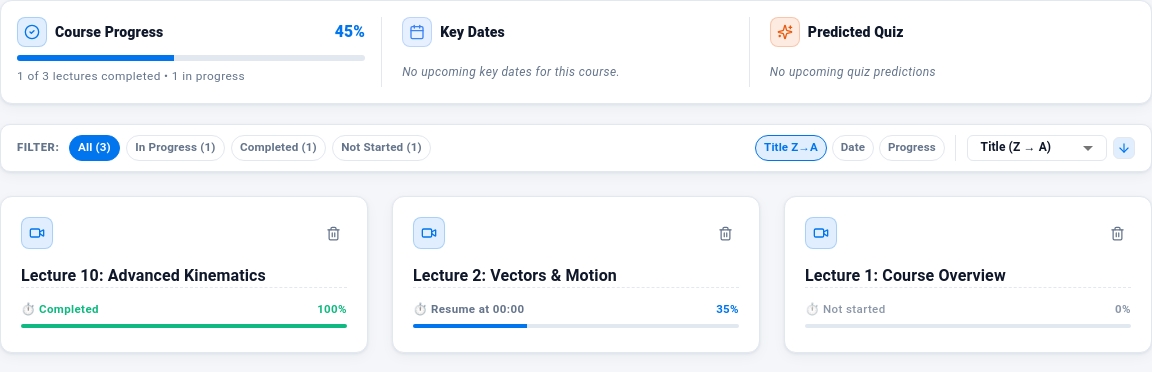
Scenario: CourseLectures › sorts lectures by title by default and allows sorting and filtering
The width and height of the screenshot is (1152, 372).
Check: the text "Filter:" is shown, box [17,139,59,157]
Check: the headings read "Lecture 10: Advanced Kinematics", "Lecture 2: Vectors & Motion", "Lecture 1: Course Overview", in this order, box [21,266,266,285]; [413,266,617,285]; [805,266,1006,285]
Note: Click quick sort chip "Title" to toggle direction to A-Z
Click the button with aria-label "Sort by Title": (791, 148) [755,135,827,161]
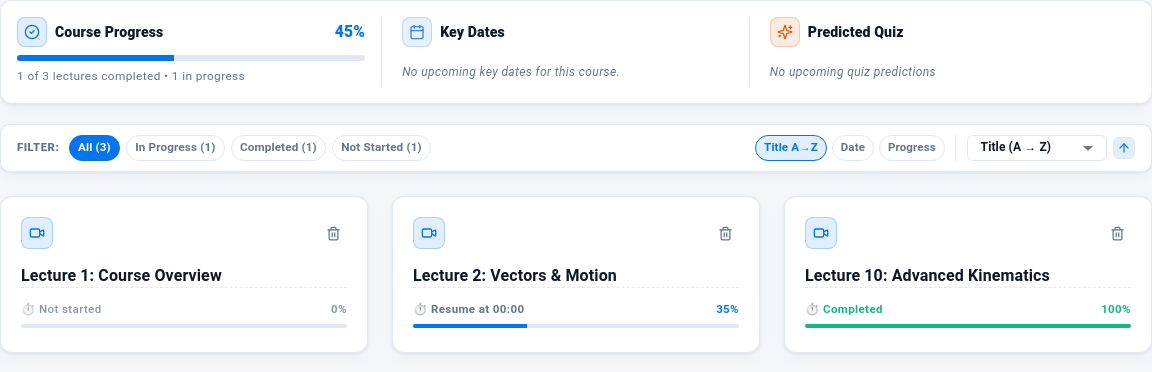
Check: the headings read "Lecture 1: Course Overview", "Lecture 2: Vectors & Motion", "Lecture 10: Advanced Kinematics", in this order, box [21,266,222,285]; [413,266,617,285]; [805,266,1050,285]
Note: Click quick sort chip "Progress"
Click the button with aria-label "Sort by Progress": (912, 148) [879,135,945,161]
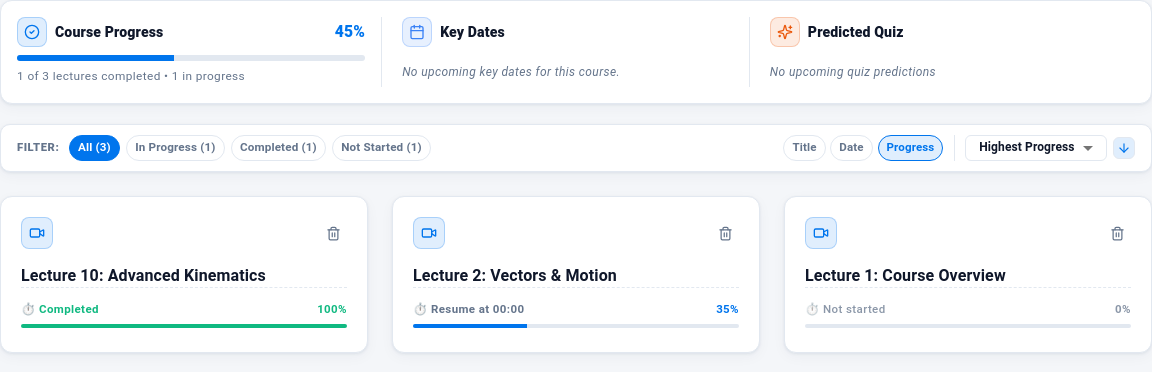
Check: the heading "Lecture 10: Advanced Kinematics" is shown, box [21,266,266,285]
Check: the heading "Lecture 2: Vectors & Motion" is shown, box [413,266,617,285]
Note: Filter by "In Progress"
Click the button with aria-label "Filter by In Progress": (175, 148) [126,135,224,161]
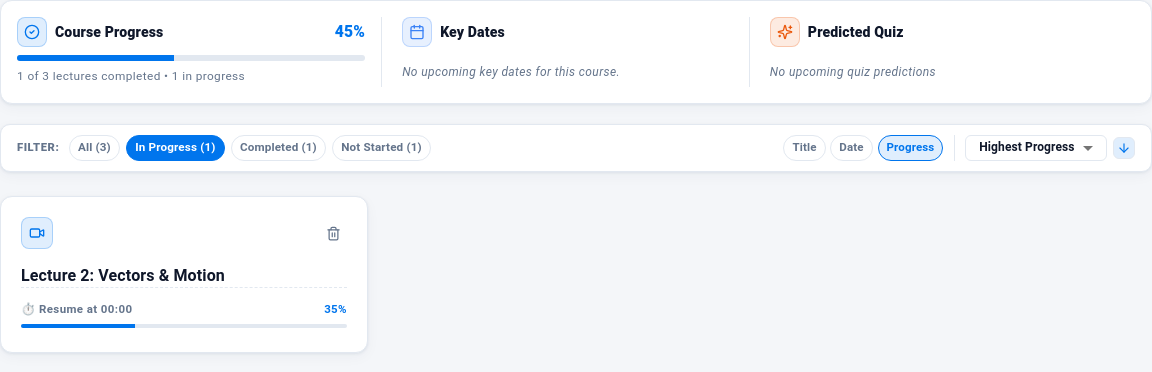
Check: the heading "Lecture 2: Vectors & Motion" is shown, box [21,266,225,285]
Check: the button "Lecture 10: Advanced Kinematics" is gone
Check: the button "Lecture 1: Course Overview" is gone
Note: Filter by "Completed"
Click the button with aria-label "Filter by Completed": (278, 148) [231,135,326,161]
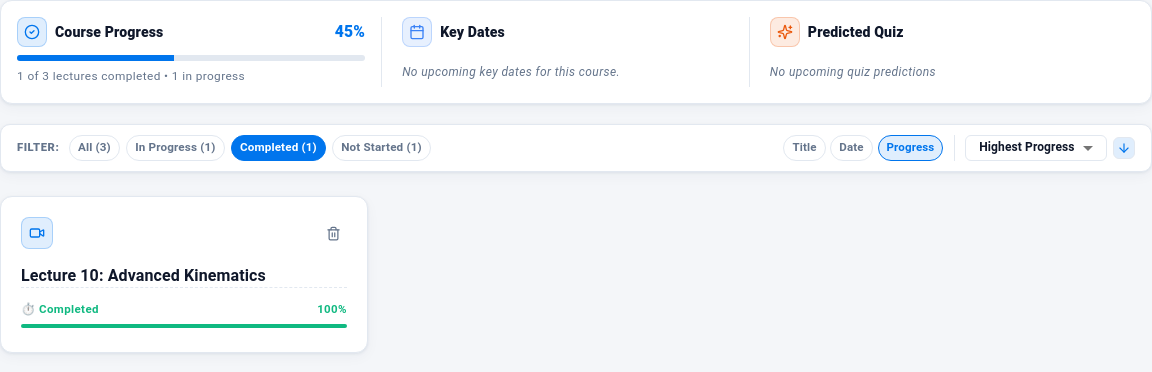
Check: the heading "Lecture 10: Advanced Kinematics" is shown, box [21,266,266,285]
Check: the button "Lecture 2: Vectors & Motion" is gone
Note: Filter back to "All"
Click the button with aria-label "Filter by All": (94, 148) [69,135,120,161]
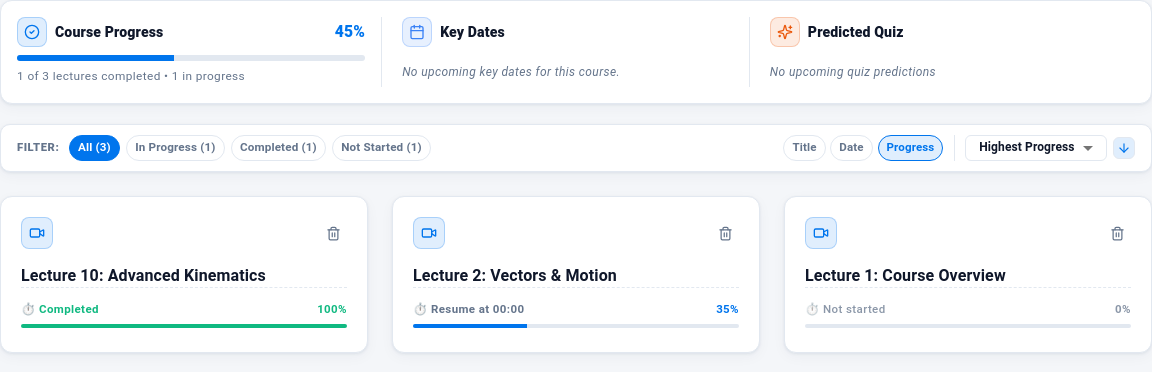
Check: the heading "Lecture 10: Advanced Kinematics" is shown, box [21,266,266,285]
Check: the heading "Lecture 1: Course Overview" is shown, box [805,266,1006,285]
Check: the heading "Lecture 2: Vectors & Motion" is shown, box [413,266,617,285]
